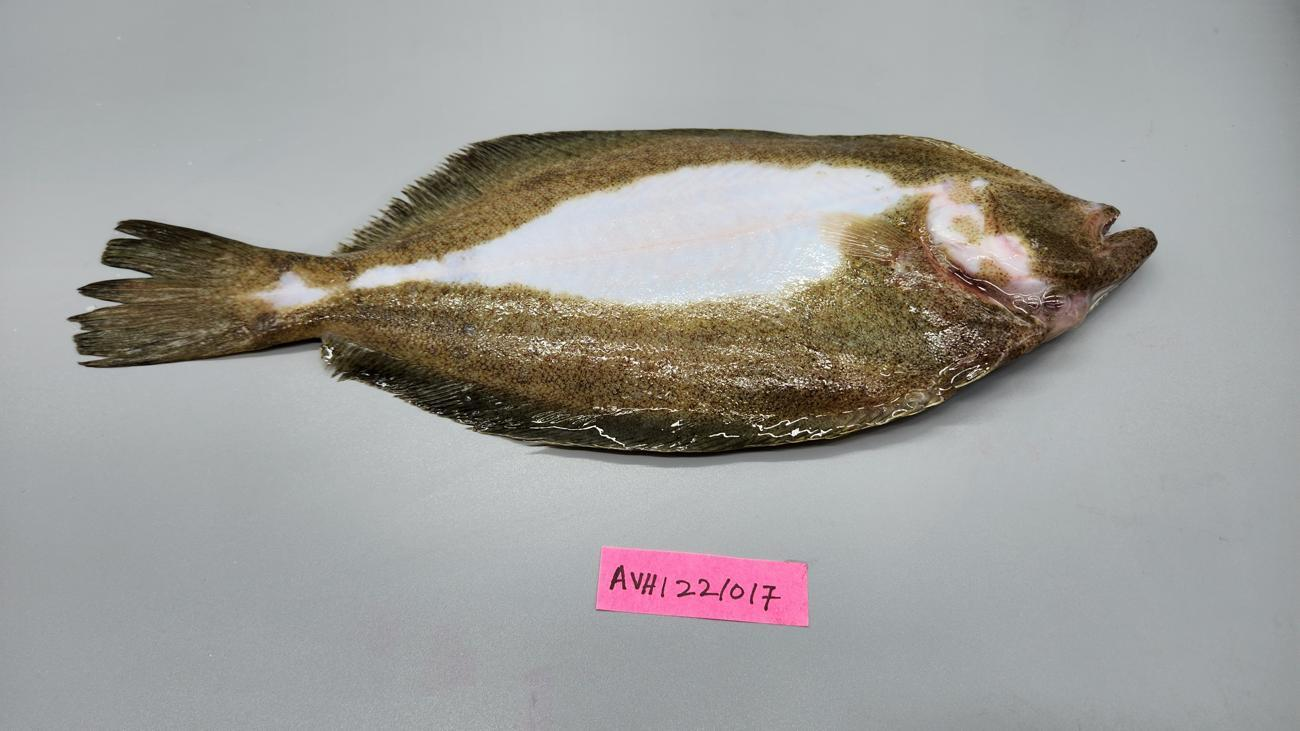VIOUY: (77, 130, 1159, 458)
